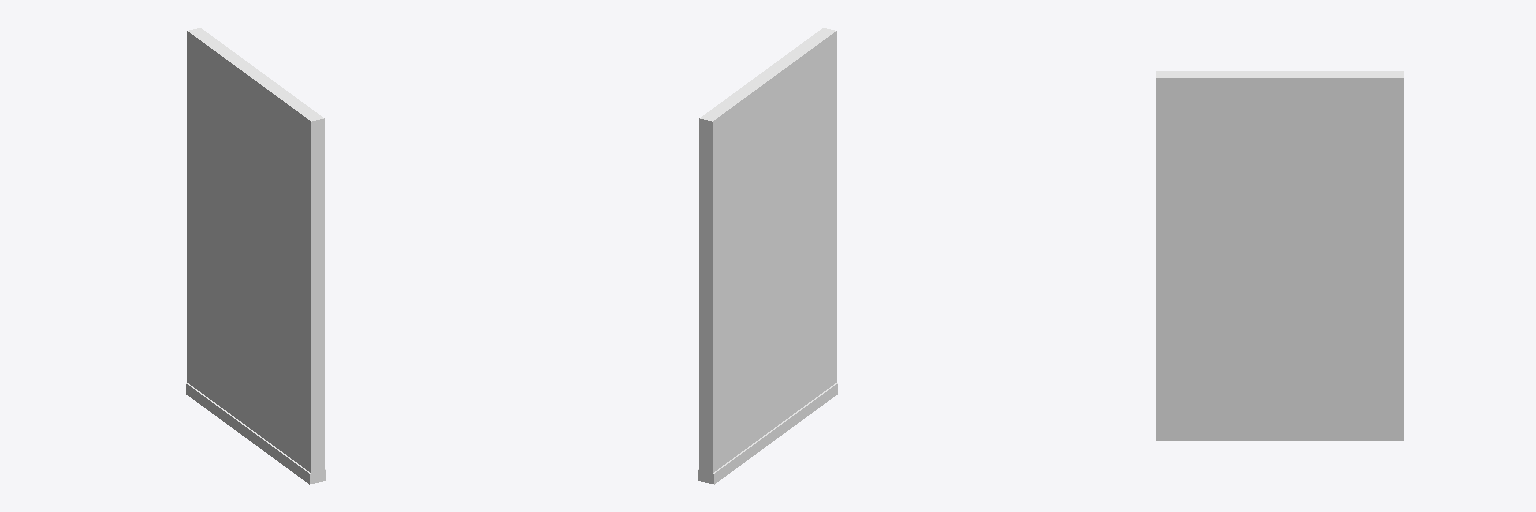
Rendered from wall.obj.
The picture shows the model from 3 angles: view 1: azimuth 30°, elevation 25°; view 2: azimuth 150°, elevation 25°; view 3: azimuth 270°, elevation 25°; orthographic projection.
Visible parts, largest first — view 1: wall; view 2: wall; view 3: wall.
Boxes of the visible parts, x1,y1,x2,y2 form: wall: [186, 28, 325, 484]; wall: [698, 28, 837, 484]; wall: [1156, 71, 1403, 440].
Size of the model in its own units: 0.1403 by 2.95 by 1.82.